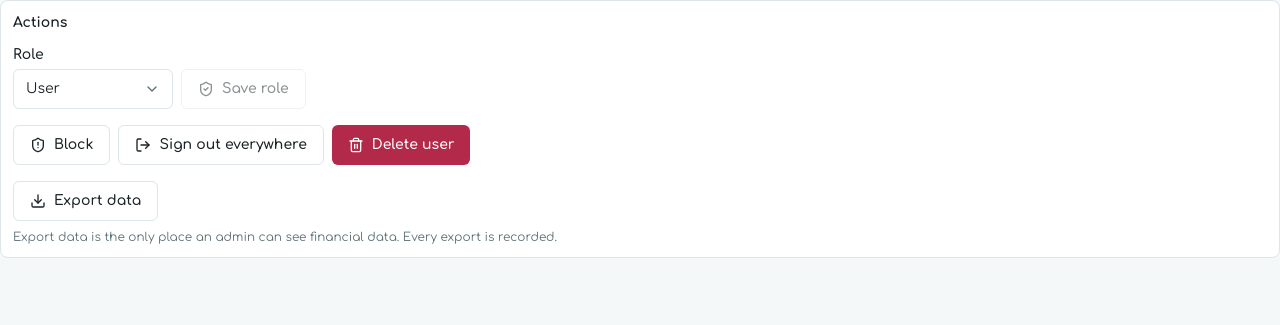
Test: UserActions › shows the reason when an action fails
This screenshot has width=1280, height=325.
Select "Admin" in the dropdown labelled "Role": (93, 89) [13,69,173,109]
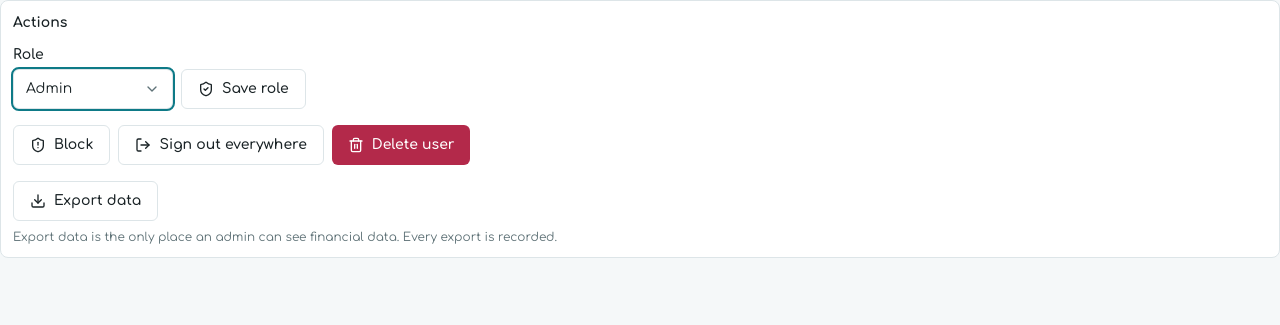
Click the button "Save role": (243, 89) [181,69,306,109]
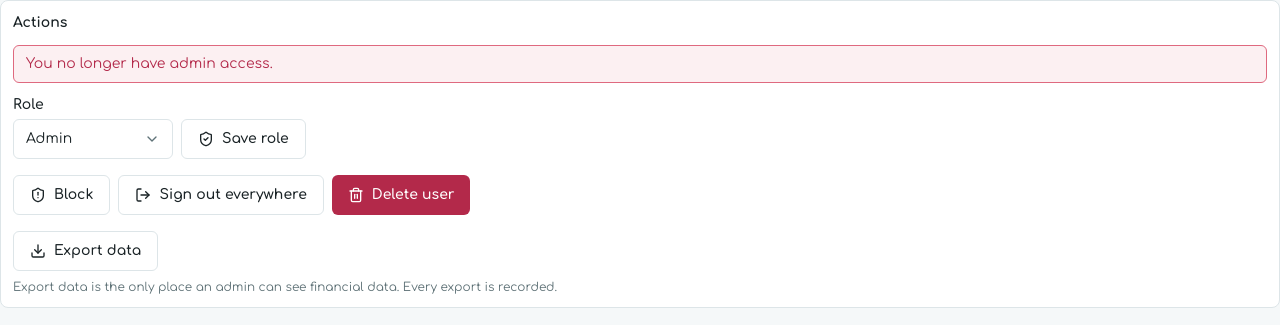
Expected: the text "You no longer have admin access." is shown, [13,45,1267,83]
